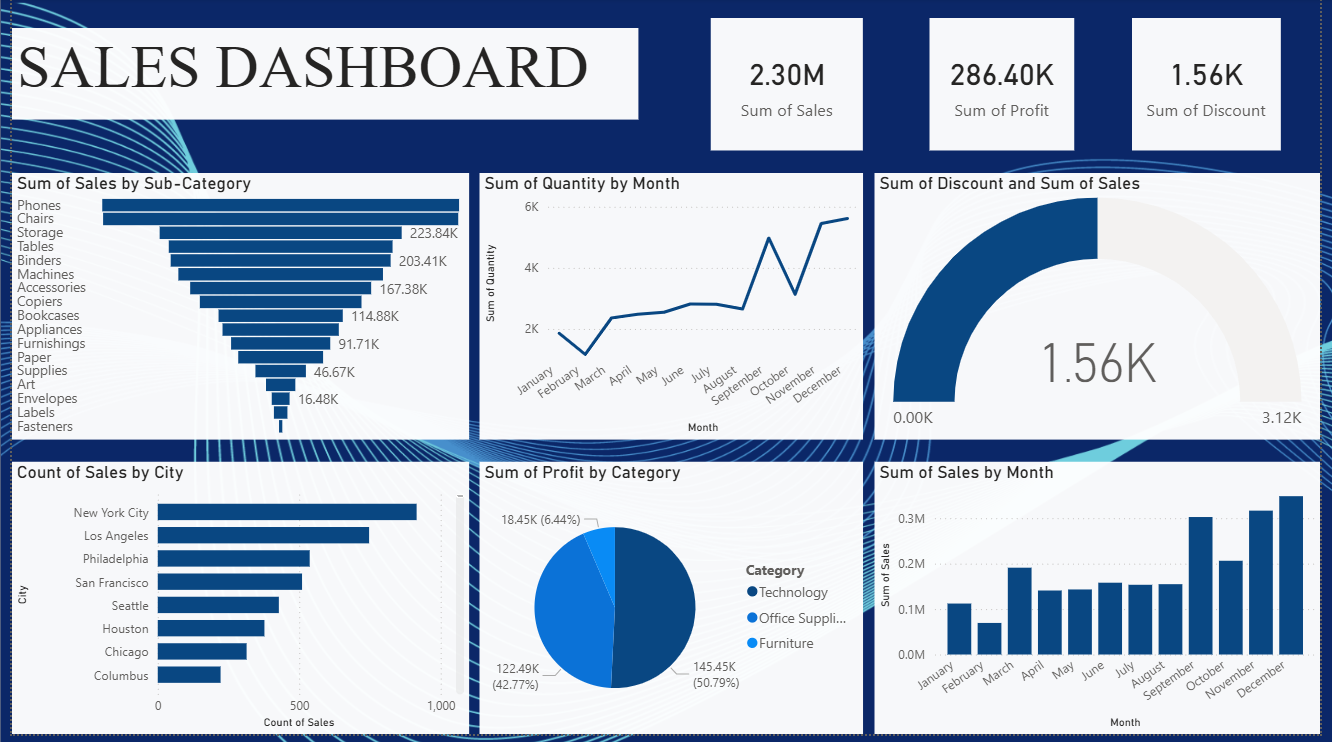

The page's visual inventory and layout, read from the dashboard file:
{"tool":"powerbi","page":{"name":"Page 1","canvas":[1280,720],"ordinal":0},"visuals":[{"type":"lineStackedColumnComboChart","fields":{"Category":["Orders.Ship Date.Variation.Date Hierarchy.Month","Orders.Ship Date.Variation.Date Hierarchy.Day"],"Y":["Sum(Orders.Sales)"]},"box":[843.8,453.7,436.6,266.6],"z":0},{"type":"pieChart","fields":{"Category":["Orders.Category"],"Y":["Sum(Orders.Profit)"]},"box":[457.3,453.7,375.4,266.6],"z":1000},{"type":"clusteredBarChart","fields":{"Category":["Orders.City"],"Y":["CountNonNull(Orders.Sales)"]},"box":[0,453.7,447.6,266.6],"z":2000},{"type":"funnel","fields":{"Category":["Orders.Sub-Category"],"Y":["Sum(Orders.Sales)"]},"box":[0,171.2,447.6,260.5],"z":3000},{"type":"lineChart","fields":{"Category":["Orders.Ship Date.Variation.Date Hierarchy.Month"],"Y":["Sum(Orders.Quantity)"]},"box":[457.3,171.2,375.4,260.5],"z":4000},{"type":"gauge","fields":{"Y":["Sum(Orders.Discount)"],"TargetValue":["Sum(Orders.Sales)"]},"box":[843.8,171.2,436.6,260.5],"z":5000},{"type":"textbox","box":[0,29.3,612.6,89.3],"z":6000},{"type":"card","fields":{"Values":["Sum(Orders.Sales)"]},"box":[683.6,19.6,149.2,129.6],"z":6001},{"type":"card","fields":{"Values":["Sum(Orders.Profit)"]},"box":[897.6,19.6,141.8,129.6],"z":6002},{"type":"card","fields":{"Values":["Sum(Orders.Discount)"]},"box":[1095.7,19.6,145.5,129.6],"z":6003}]}

Visuals, with their boxes in screenshot pixels (x1, y1, x2, y2), scaled from the page's 1280x720 canvas onto the 1332x742 screenshot:
lineStackedColumnComboChart - Orders.Ship Date.Variation.Date Hierarchy.Month x Orders.Ship Date.Variation.Date Hierarchy.Day: <box>878,468,1331,741</box>
pieChart - Orders.Category x Sum(Orders.Profit): <box>476,468,867,741</box>
clusteredBarChart - Orders.City x CountNonNull(Orders.Sales): <box>0,468,466,741</box>
funnel - Orders.Sub-Category x Sum(Orders.Sales): <box>0,176,466,445</box>
lineChart - Orders.Ship Date.Variation.Date Hierarchy.Month x Sum(Orders.Quantity): <box>476,176,867,445</box>
gauge - Sum(Orders.Discount) x Sum(Orders.Sales): <box>878,176,1331,445</box>
textbox: <box>0,30,637,122</box>
card - Sum(Orders.Sales): <box>711,20,867,154</box>
card - Sum(Orders.Profit): <box>934,20,1082,154</box>
card - Sum(Orders.Discount): <box>1140,20,1292,154</box>
